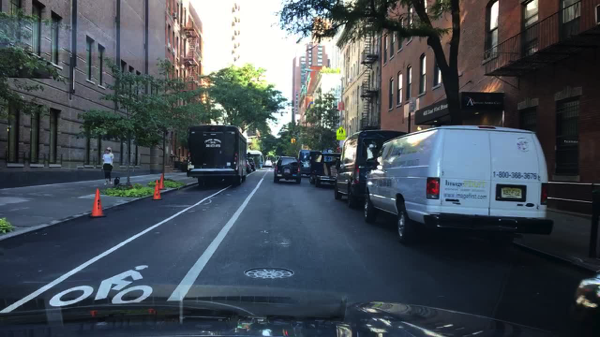car: (362, 126, 554, 248), (334, 131, 405, 207), (564, 267, 599, 337), (309, 153, 341, 186), (274, 155, 301, 184), (297, 150, 312, 177), (247, 158, 256, 171), (245, 160, 252, 173), (263, 160, 274, 167)
person: (101, 145, 115, 187)
traffic light: (291, 138, 295, 144), (350, 151, 357, 152)
traffic sign: (336, 128, 345, 141)
truck: (185, 125, 247, 187)
